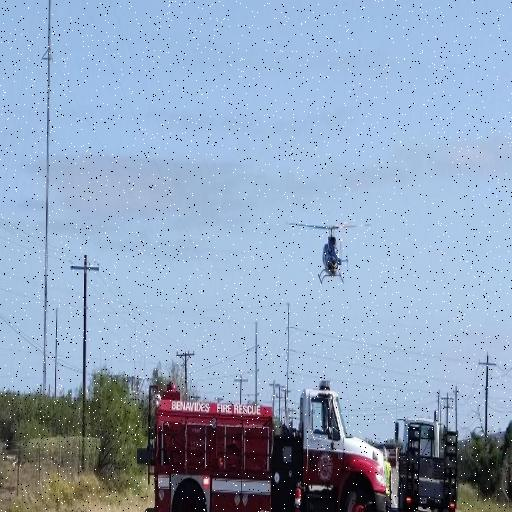helicopter: (280, 210, 376, 301)
